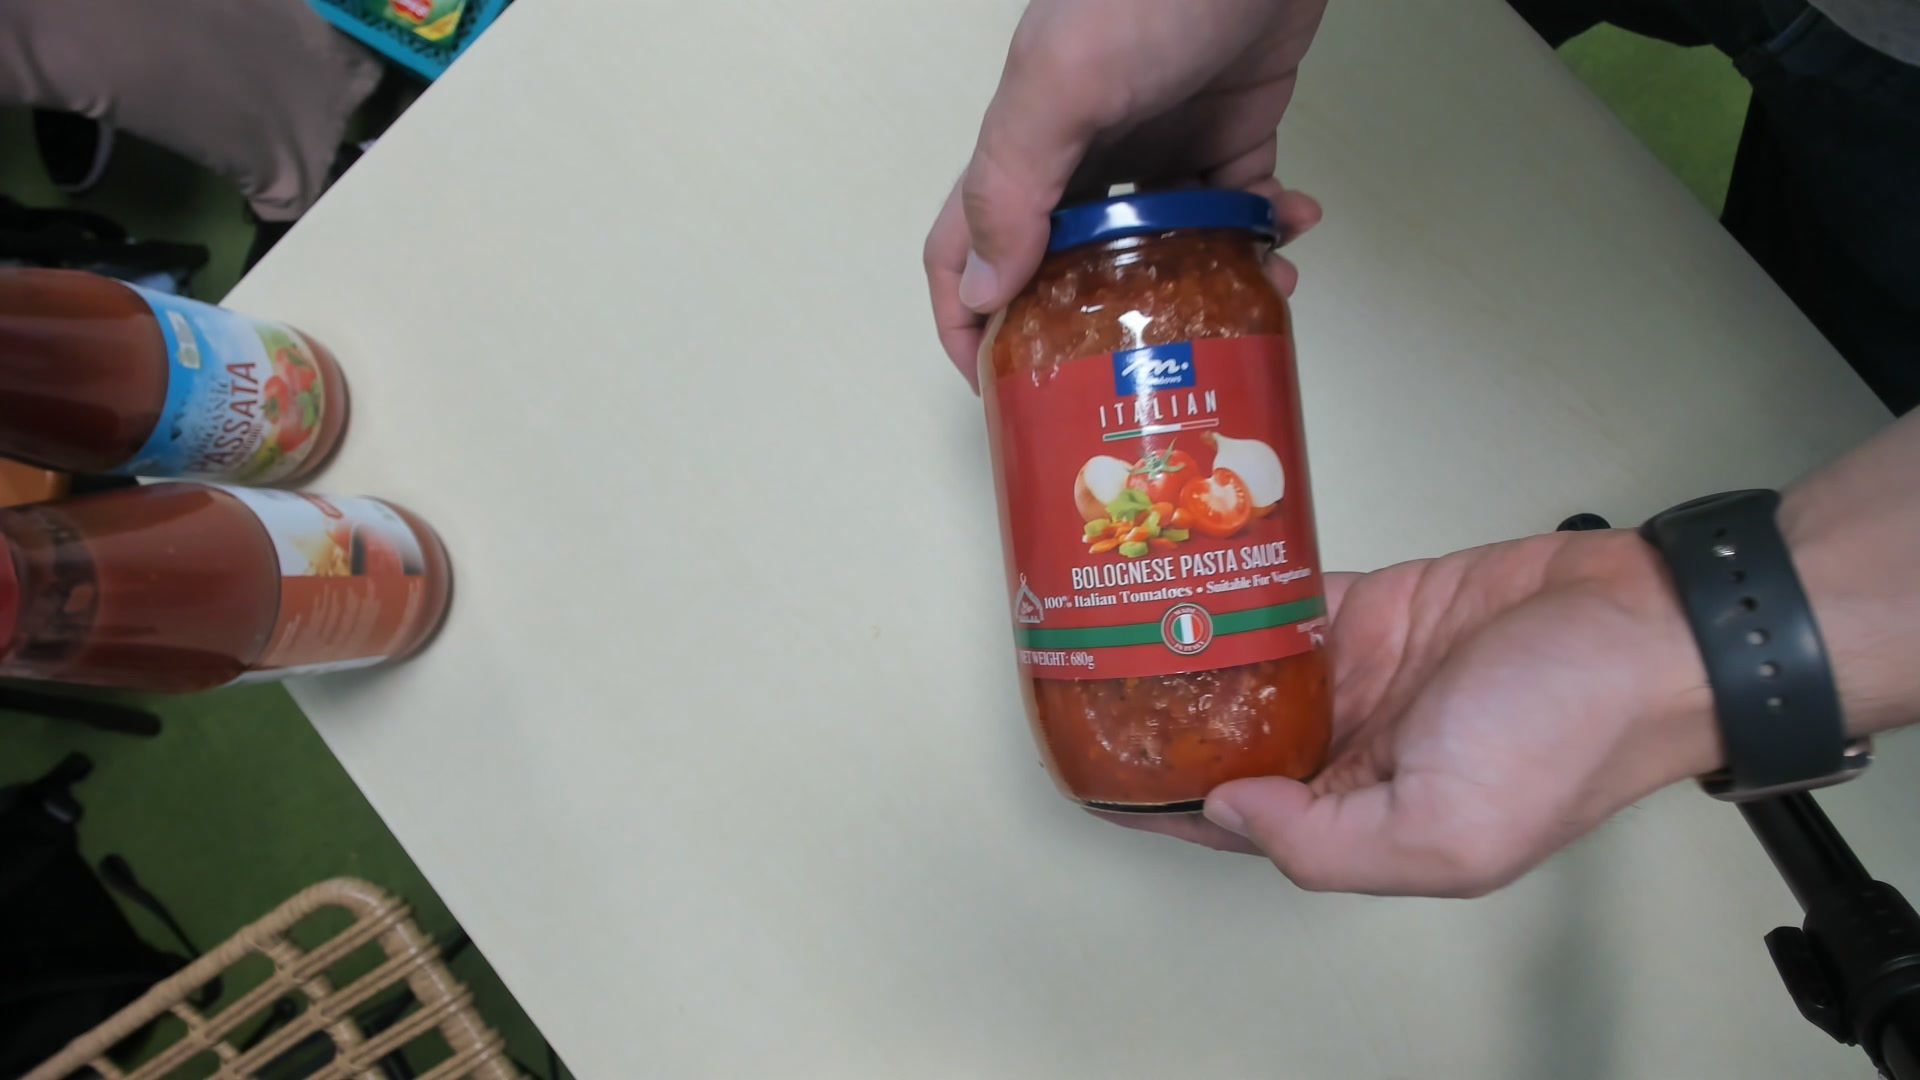PastaSauce_600-699g_Halal_NonHealthy: (984, 194, 1333, 818)
